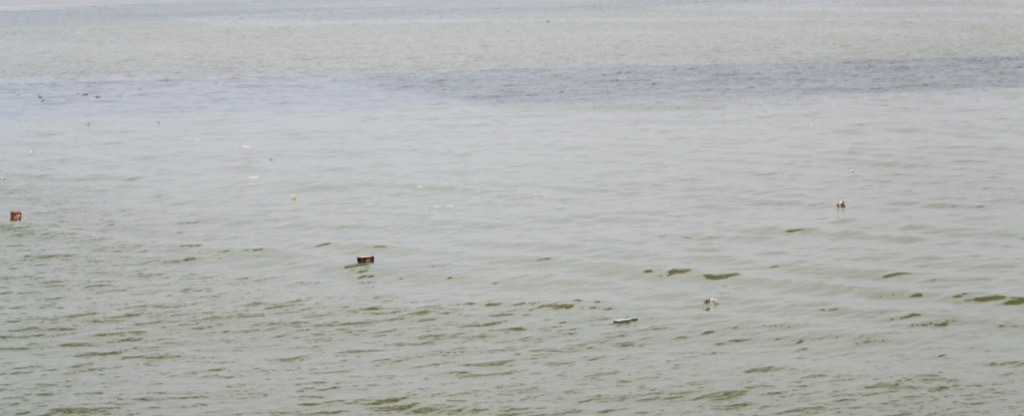plastic: (350, 244, 381, 272), (694, 291, 726, 318), (606, 311, 646, 332), (825, 196, 860, 217), (406, 178, 432, 197), (21, 141, 42, 160), (6, 206, 23, 227), (280, 189, 303, 203), (237, 138, 258, 152), (844, 164, 862, 180), (246, 172, 264, 186), (1, 165, 10, 188), (190, 132, 206, 144)
